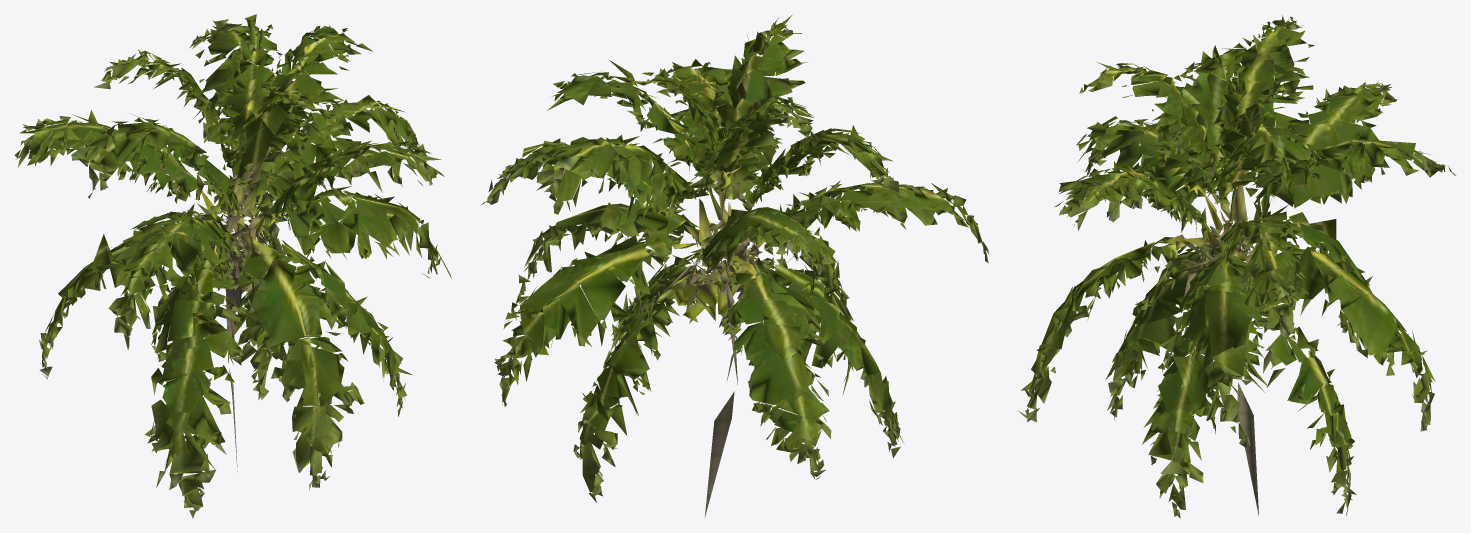
Rendered from palm-crown-phone.glb.
3 renders of one model, left to right at view 1: azimuth 30°, elevation 25°; view 2: azimuth 150°, elevation 25°; view 3: azimuth 270°, elevation 25°, orthographic. The views are drawn at different scales.
Parts seen in each view (by area): view 1: Mesh_0; view 2: Mesh_0; view 3: Mesh_0.
Boxes of the visible parts, bbox=[...] form: Mesh_0: bbox=[14, 14, 451, 518]; Mesh_0: bbox=[480, 14, 988, 517]; Mesh_0: bbox=[1017, 15, 1456, 518].
Size of the model in its own units: 1.14 by 1.18 by 1.04.
1 material, 1 textured.
